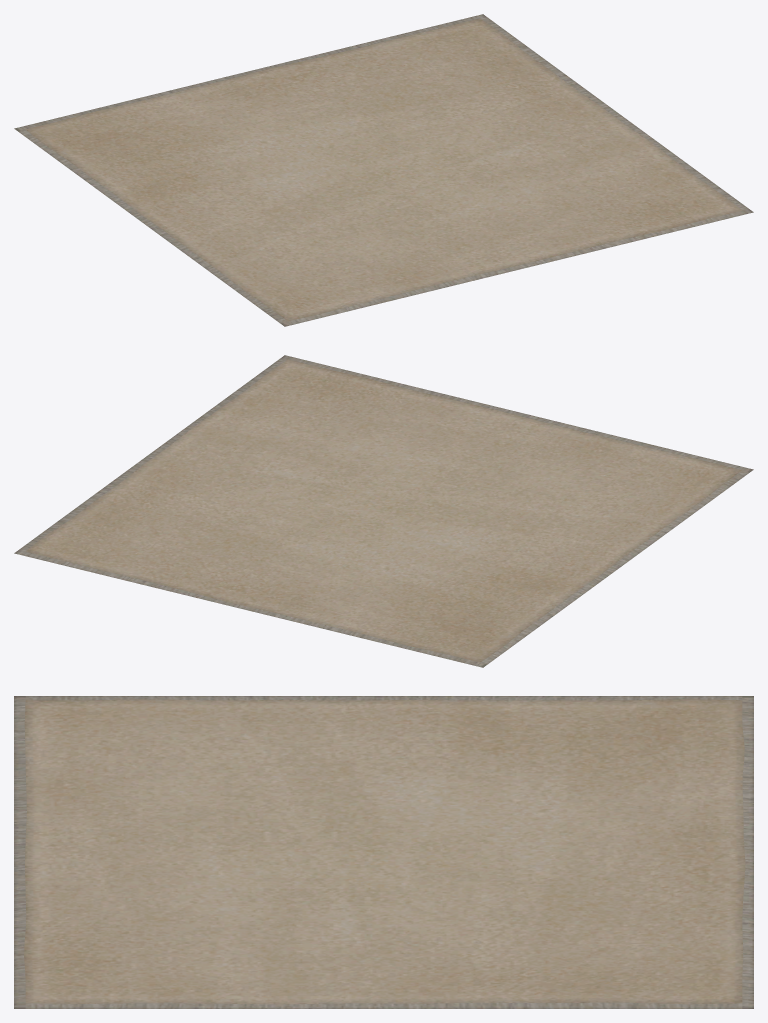
The model's file is RugSquareSimpleM00.glb.
The picture shows the model from 3 angles, top to bottom: view 1: azimuth 30°, elevation 25°; view 2: azimuth 150°, elevation 25°; view 3: azimuth 270°, elevation 25°; orthographic projection. The views are drawn at different scales.
Parts seen in each view (by area): view 1: Edge__mMain; view 2: Edge__mMain; view 3: Edge__mMain.
Part boxes in pixels (bbox=[...]): Edge__mMain: bbox=[14, 14, 753, 326]; Edge__mMain: bbox=[14, 355, 753, 667]; Edge__mMain: bbox=[14, 696, 753, 1008].
Size of the model in its own units: 30 by 0.03 by 30.
1 material, 1 textured.
